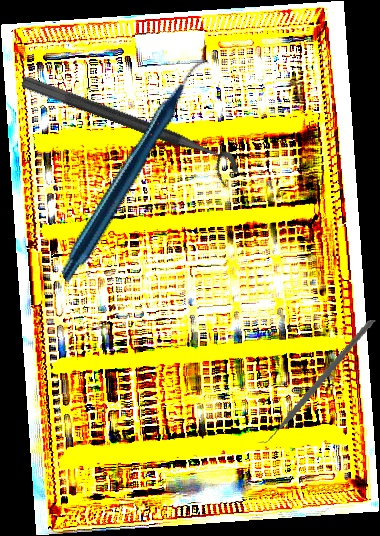Chopper: (251, 304, 376, 458)
Fixation Ring: (13, 74, 245, 189)
Handpiece: (7, 56, 266, 285)
